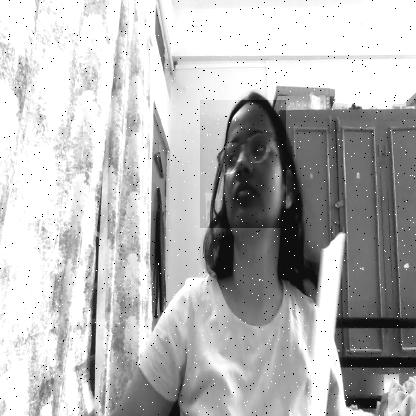Distracted: (200, 100, 286, 228)
